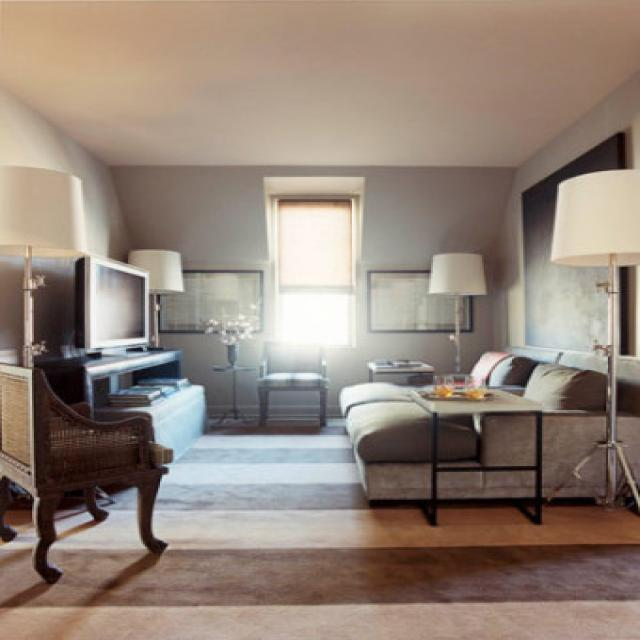Chair: (6, 365, 171, 570)
Sofa: (359, 366, 604, 510)
tv: (78, 259, 157, 352)
window: (280, 295, 350, 344)
